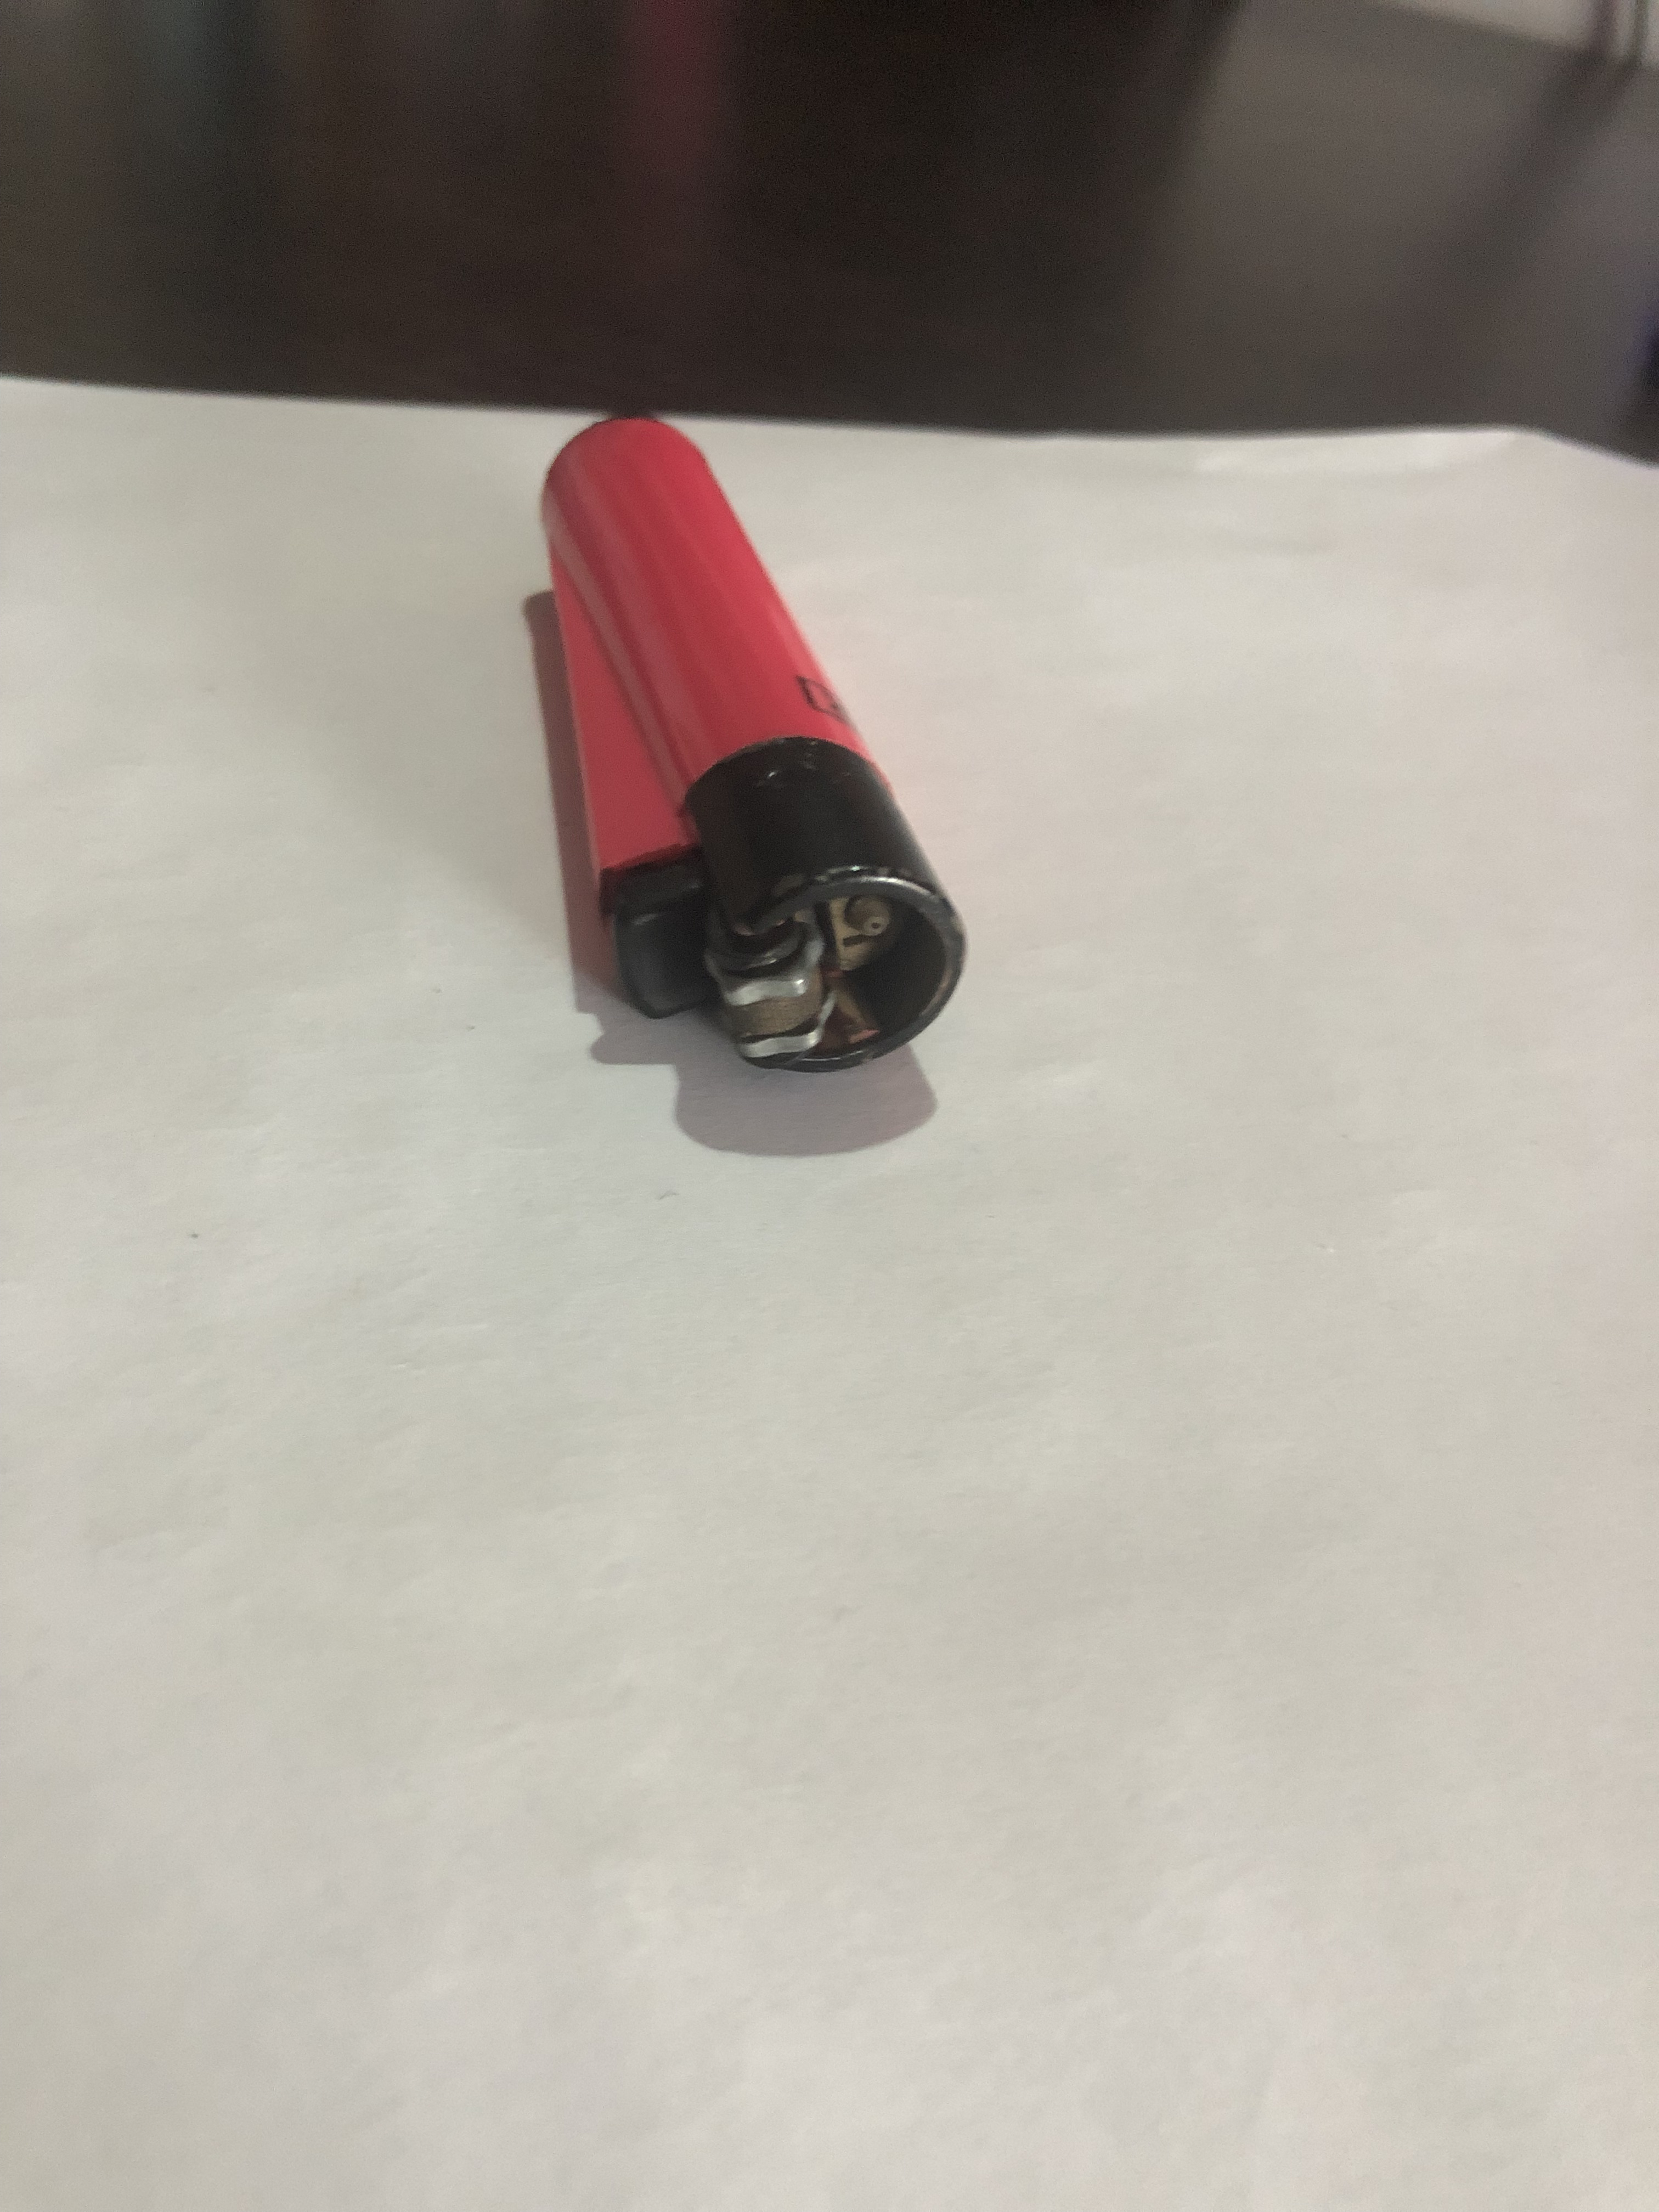Mechero: (399, 374, 1007, 1157)
